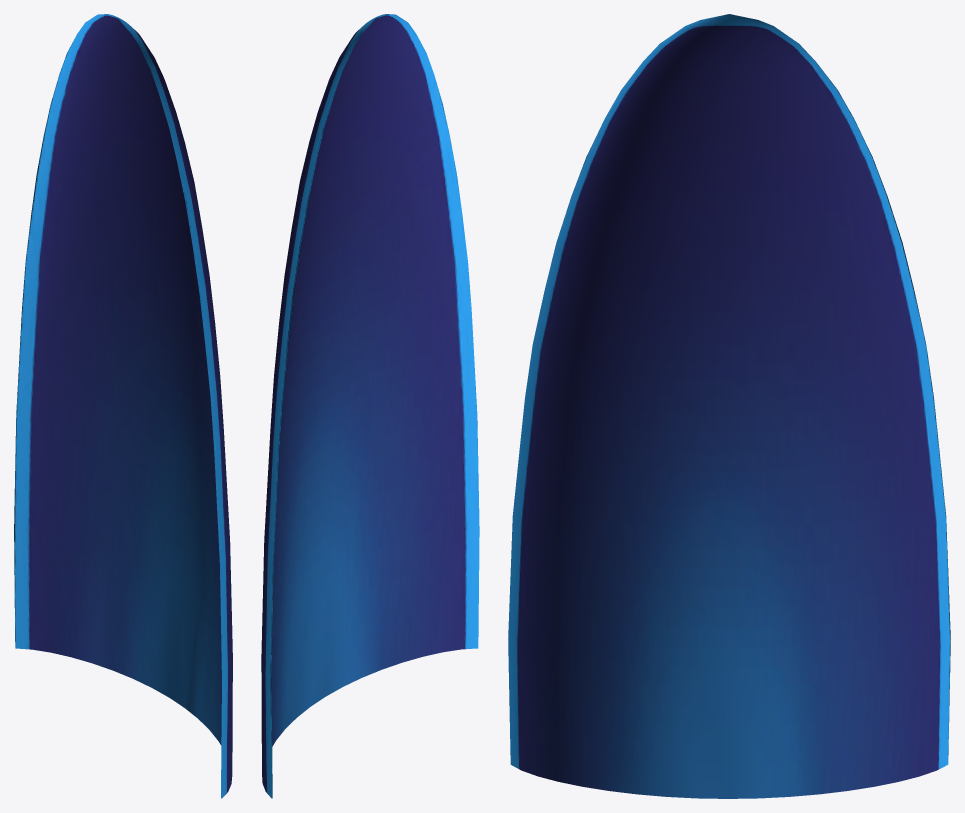
Rendered from energyplane.glb.
3 views of the same model, side by side, from view 1: azimuth 30°, elevation 25°; view 2: azimuth 150°, elevation 25°; view 3: azimuth 270°, elevation 25° (orthographic). The views are drawn at different scales.
Visible parts, largest first — view 1: energyplane_0; view 2: energyplane_0; view 3: energyplane_0.
Part boxes in pixels (box(x1,y1,x2,y2)): energyplane_0: box(14, 14, 232, 798); energyplane_0: box(261, 14, 479, 798); energyplane_0: box(508, 14, 950, 798).
Size of the model in its own units: 22.82 by 230 by 123.
Materials: 1 (1 with a texture image).
